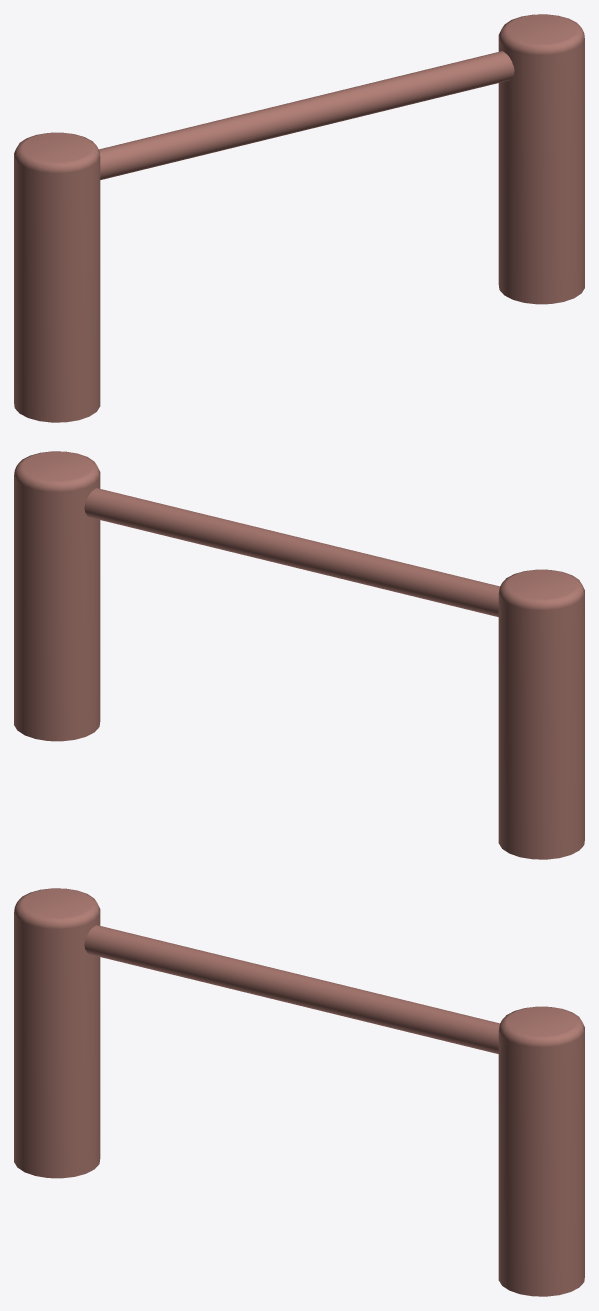
The model's file is Obstacle_Jump_A.fbx.
3 views of the same model, one above another, from view 1: azimuth 30°, elevation 25°; view 2: azimuth 150°, elevation 25°; view 3: azimuth 330°, elevation 25° (orthographic).
Visible parts, largest first — view 1: Obstacle_Jump_A; view 2: Obstacle_Jump_A; view 3: Obstacle_Jump_A.
Part boxes in pixels (left/top/right/bottom): Obstacle_Jump_A: left=14, top=14, right=584, bottom=422; Obstacle_Jump_A: left=14, top=451, right=584, bottom=859; Obstacle_Jump_A: left=14, top=888, right=584, bottom=1296.
Bounding box in the file's own units: 236 × 104 × 31.71.
